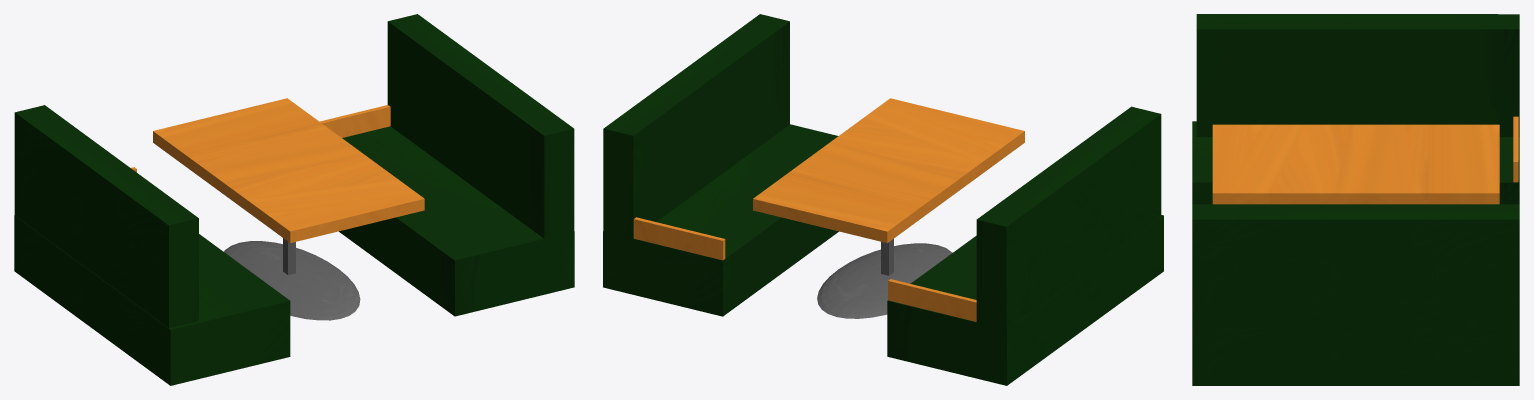
Rendered from TrainingBooth.gltf.
3 views of the same model, side by side, from view 1: azimuth 30°, elevation 25°; view 2: azimuth 150°, elevation 25°; view 3: azimuth 270°, elevation 25° (orthographic). The views are drawn at different scales.
Parts seen in each view (by area): view 1: SEATBack of seat, SEAT2Back of seat.001, SEATAss of cseat, Table Top, SEAT2Ass of cseat.001, TABLEBase, SEATSide Left; view 2: SEAT2Back of seat.001, SEATBack of seat, Table Top, SEATAss of cseat, SEAT2Ass of cseat.001, TABLEBase, SEATSide Left, SEAT2Side Left.001; view 3: SEATBack of seat, SEAT2Back of seat.001, Table Top, SEATAss of cseat, SEAT2Ass of cseat.001, SEAT2Side Left.001.
Part boxes in pixels (x1,y1,x2,y2): SEATBack of seat: (387, 14, 574, 239); SEAT2Back of seat.001: (14, 105, 198, 328); SEATAss of cseat: (339, 126, 574, 316); Table Top: (153, 98, 424, 242); SEAT2Ass of cseat.001: (14, 215, 290, 385); TABLEBase: (224, 241, 360, 320); SEATSide Left: (320, 105, 390, 137); SEAT2Back of seat.001: (976, 106, 1161, 329); SEATBack of seat: (603, 14, 789, 239); Table Top: (753, 98, 1024, 243); SEATAss of cseat: (603, 124, 838, 316); SEAT2Ass of cseat.001: (887, 215, 1163, 385); TABLEBase: (817, 243, 952, 318); SEATSide Left: (633, 217, 725, 260); SEAT2Side Left.001: (888, 279, 976, 321); SEATBack of seat: (1192, 204, 1519, 327); SEAT2Back of seat.001: (1196, 14, 1519, 136); Table Top: (1212, 124, 1499, 204); SEATAss of cseat: (1192, 327, 1519, 385); SEAT2Ass of cseat.001: (1192, 121, 1519, 204); SEAT2Side Left.001: (1513, 116, 1518, 182).
Size of the model in its own units: 41.01 by 15.57 by 27.54.
10 materials, 10 textured.
